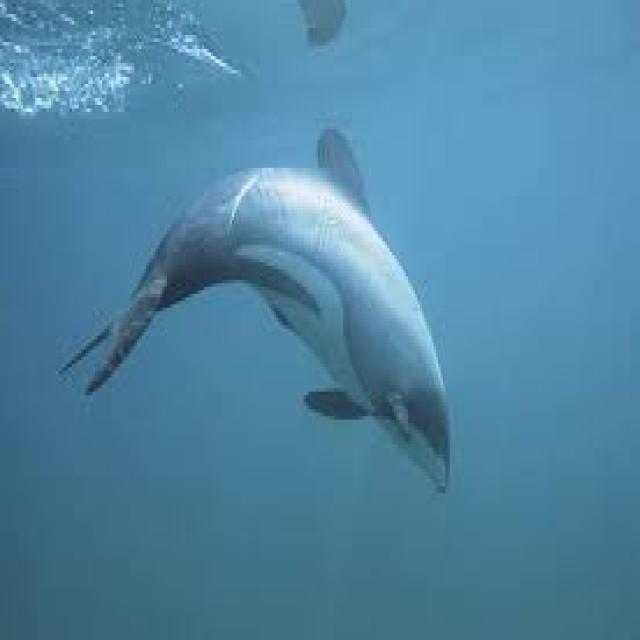dolphin: (46, 147, 471, 542)
